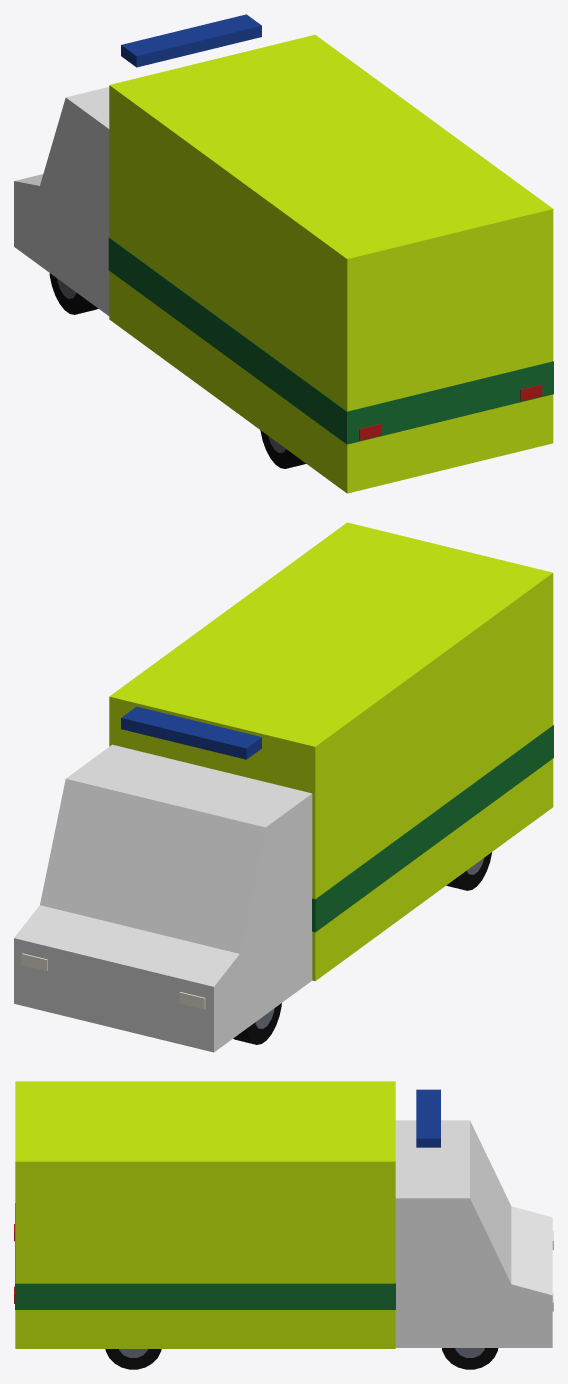
The model's file is vehicle.emergency.ambulance.glb.
The picture shows the model from 3 angles, top to bottom: view 1: azimuth 30°, elevation 25°; view 2: azimuth 150°, elevation 25°; view 3: azimuth 270°, elevation 25°; orthographic projection. The views are drawn at different scales.
Visible parts, largest first — view 1: main__hivis_yellow, main__car_white, main__plastic_green, main__plastic_blue, main__rubber; view 2: main__hivis_yellow, main__car_white, main__plastic_green, main__plastic_blue, main__rubber, main__light_emitter; view 3: main__hivis_yellow, main__car_white, main__plastic_green, main__plastic_blue, main__rubber, main__steel_painted.
Boxes of the visible parts, left/top/right/bottom form: main__hivis_yellow: left=109, top=34, right=553, bottom=493; main__car_white: left=14, top=87, right=109, bottom=315; main__plastic_green: left=108, top=237, right=553, bottom=444; main__plastic_blue: left=121, top=14, right=261, bottom=67; main__rubber: left=49, top=273, right=306, bottom=468; main__hivis_yellow: left=109, top=522, right=553, bottom=981; main__car_white: left=14, top=744, right=312, bottom=1052; main__plastic_green: left=312, top=725, right=553, bottom=932; main__plastic_blue: left=121, top=706, right=261, bottom=759; main__rubber: left=233, top=852, right=491, bottom=1044; main__light_emitter: left=21, top=953, right=205, bottom=1009; main__hivis_yellow: left=15, top=1081, right=395, bottom=1348; main__car_white: left=395, top=1120, right=552, bottom=1347; main__plastic_green: left=15, top=1203, right=395, bottom=1309; main__plastic_blue: left=416, top=1089, right=440, bottom=1147; main__rubber: left=105, top=1348, right=498, bottom=1369; main__steel_painted: left=119, top=1348, right=484, bottom=1357.
Size of the model in its own units: 2.31 by 2.9 by 6.53.
